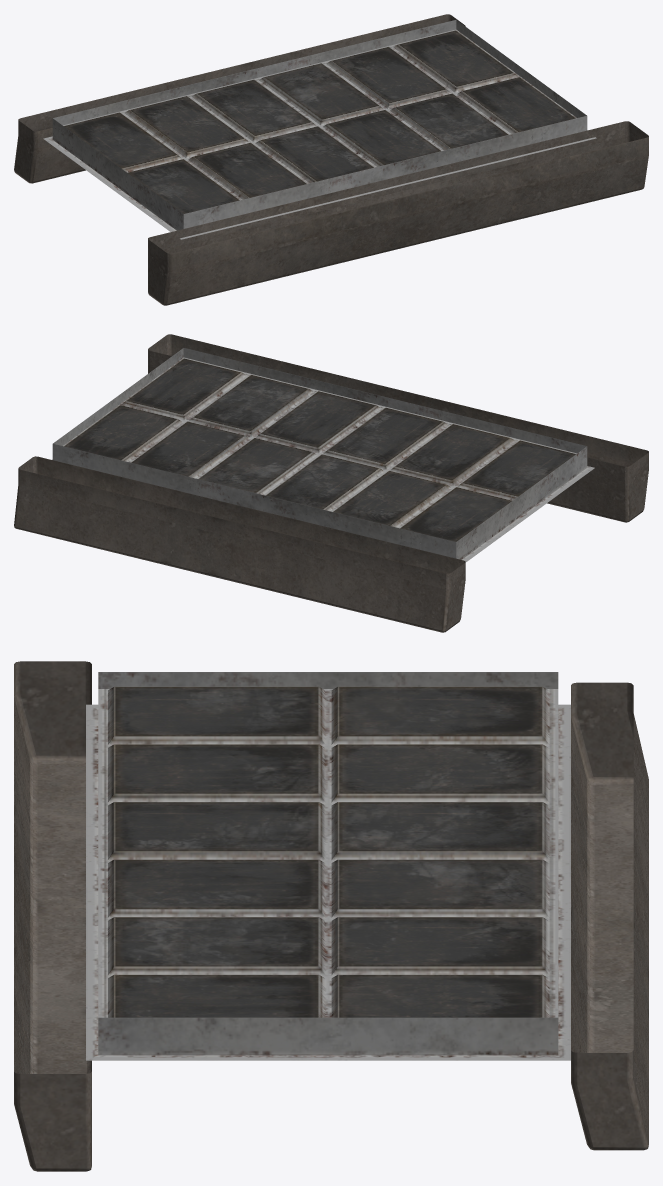
File: window_centered_medium_03.gltf
The picture shows the model from 3 angles, top to bottom: view 1: azimuth 30°, elevation 25°; view 2: azimuth 150°, elevation 25°; view 3: azimuth 270°, elevation 25°; orthographic projection. The views are drawn at different scales.
Visible parts, largest first — view 1: window_centered_medium_03; view 2: window_centered_medium_03; view 3: window_centered_medium_03.
Boxes of the visible parts, left/top/right/bottom form: window_centered_medium_03: left=14, top=14, right=648, bottom=305; window_centered_medium_03: left=14, top=334, right=648, bottom=632; window_centered_medium_03: left=14, top=661, right=648, bottom=1171.
Bounding box in the file's own units: 1.56 × 0.2167 × 1.01.
2 materials, 2 textured.
